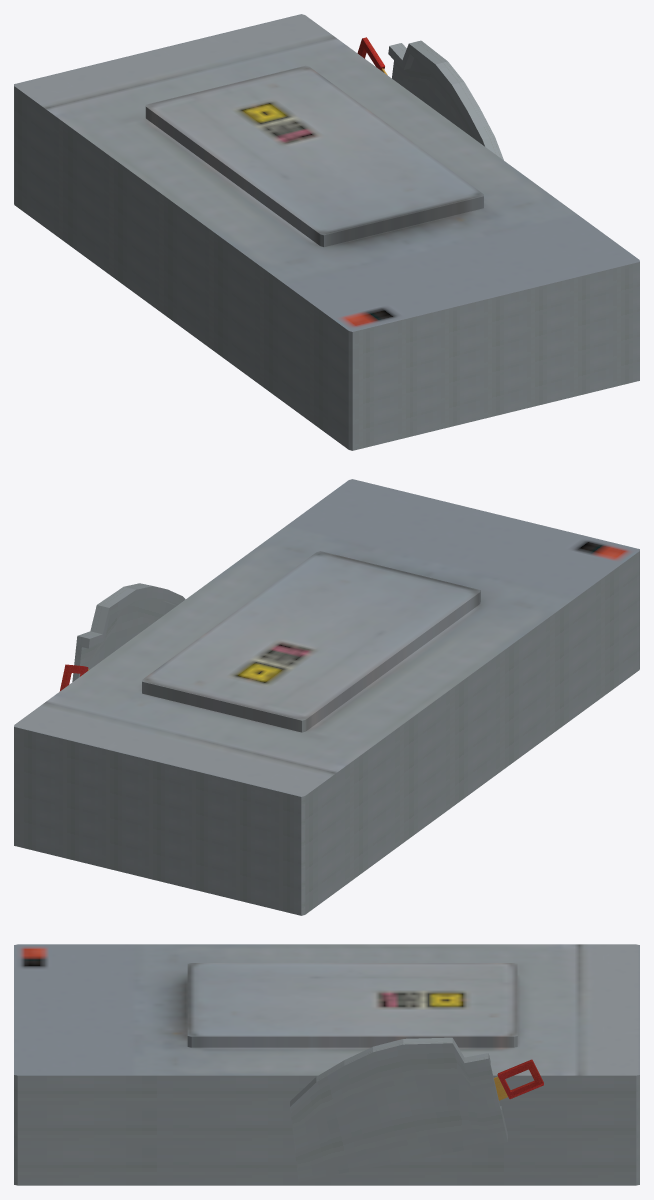
File: Electrical Box.fbx
3 views of the same model, one above another, from view 1: azimuth 30°, elevation 25°; view 2: azimuth 150°, elevation 25°; view 3: azimuth 270°, elevation 25° (orthographic). The views are drawn at different scales.
Parts seen in each view (by area): view 1: Cube.002; view 2: Cube.002; view 3: Cube.002, Cube.001.
Part boxes in pixels (bbox=[...]): Cube.002: bbox=[14, 14, 639, 450]; Cube.002: bbox=[14, 479, 639, 915]; Cube.002: bbox=[14, 944, 639, 1185]; Cube.001: bbox=[494, 1059, 543, 1100].
Bounding box in the file's own units: 135 × 68.18 × 258.
Materials: 4 (4 with a texture image).
